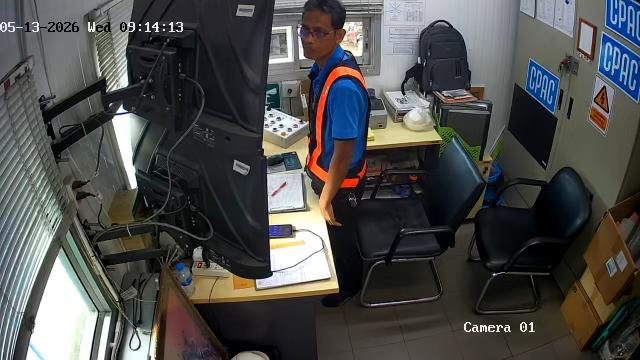Head: (300, 0, 347, 61)
People: (299, 0, 370, 306)
Phone: (281, 151, 302, 171), (269, 224, 293, 238)
